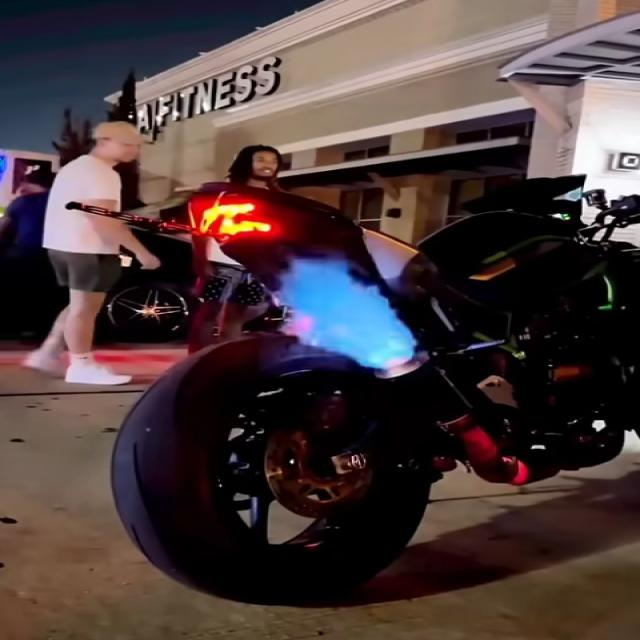fire: (280, 257, 416, 369)
